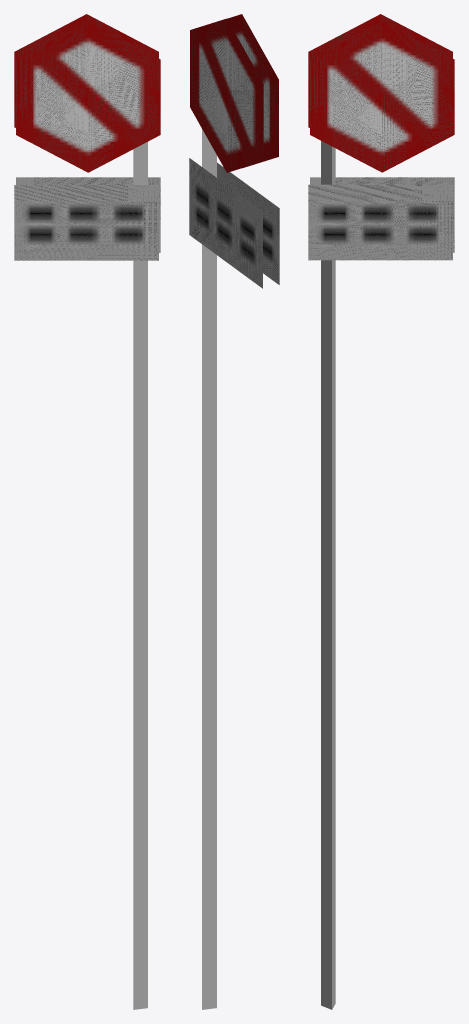
The model's file is Prop_Sign_A.fbx.
3 renders of one model, left to right at view 1: azimuth 90°, elevation 25°; view 2: azimuth 210°, elevation 25°; view 3: azimuth 270°, elevation 25°, orthographic. The views are drawn at different scales.
Parts seen in each view (by area): view 1: Prop_Sign_A; view 2: Prop_Sign_A; view 3: Prop_Sign_A.
Boxes of the visible parts, x1=… form: Prop_Sign_A: x1=14, y1=14, x2=160, y2=1009; Prop_Sign_A: x1=189, y1=14, x2=279, y2=1009; Prop_Sign_A: x1=308, y1=14, x2=454, y2=1009.
Size of the model in its own units: 5.76 by 348 by 46.62.
